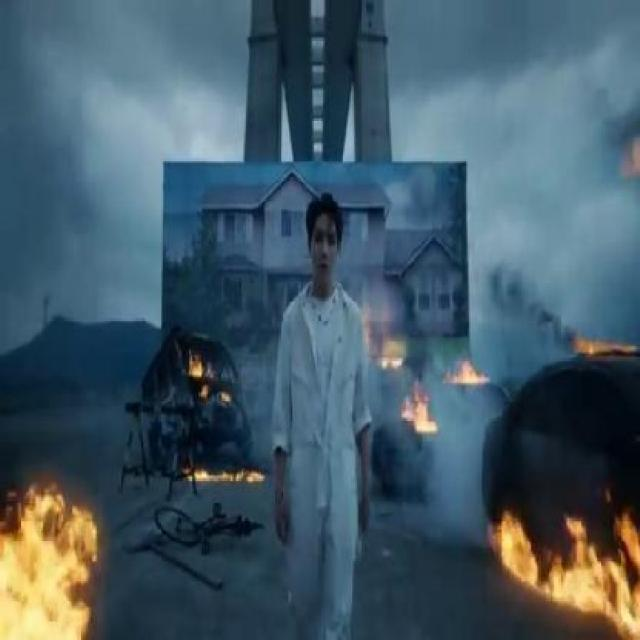fire: (500, 484, 640, 640), (0, 461, 103, 640), (182, 346, 236, 404), (394, 384, 438, 440), (450, 342, 488, 392)
smoke: (1, 33, 97, 316), (411, 352, 500, 560), (564, 117, 640, 333), (474, 229, 574, 371), (358, 222, 410, 436)
